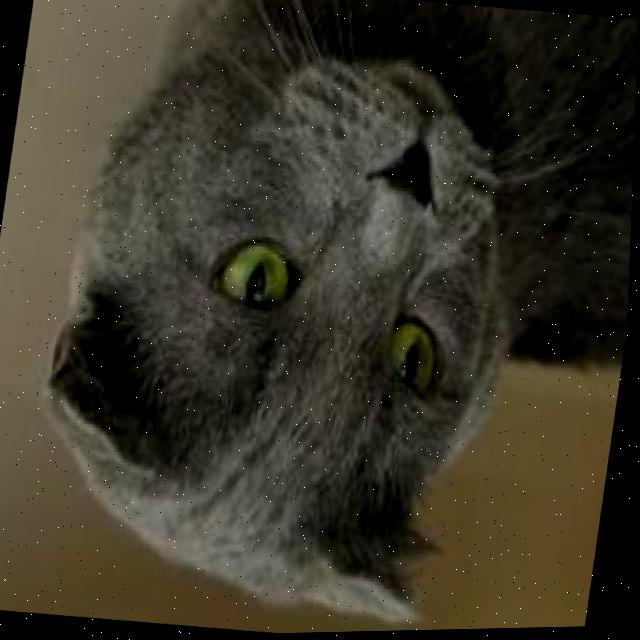Scottish Fold: (7, 0, 640, 640)
